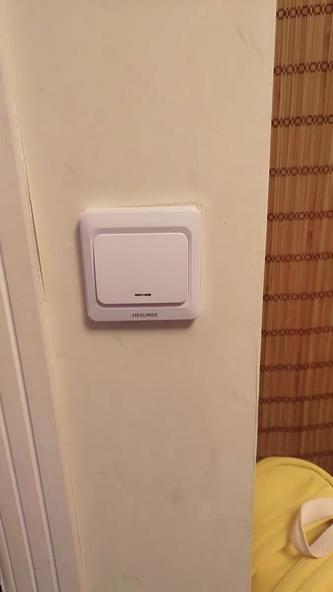switch: (87, 227, 199, 309)
